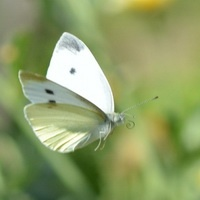insect: (18, 32, 123, 152)
